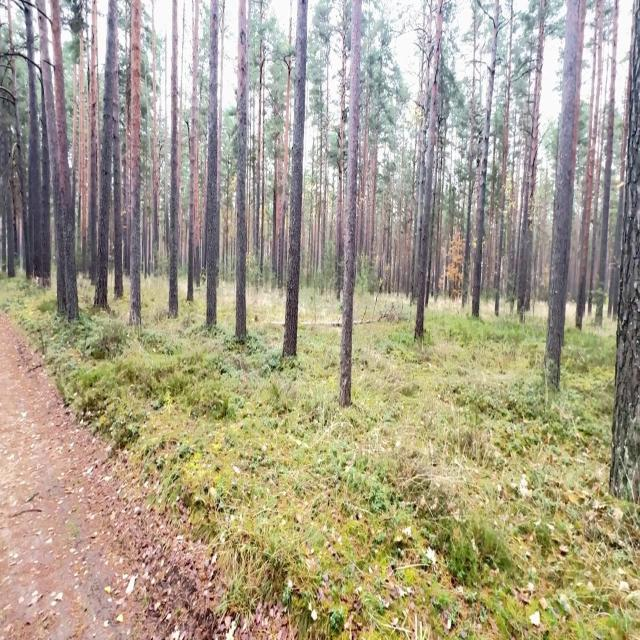trees: (610, 0, 639, 504), (545, 0, 579, 388), (36, 0, 66, 315), (415, 0, 442, 341), (339, 0, 361, 406), (518, 0, 545, 322), (51, 0, 78, 322), (283, 0, 307, 357), (472, 0, 499, 317), (576, 5, 602, 328), (595, 0, 618, 326), (94, 0, 117, 308), (495, 0, 512, 316), (367, 40, 387, 265), (235, 0, 248, 343), (206, 0, 219, 325), (462, 18, 476, 306), (413, 62, 430, 297), (129, 0, 141, 325), (588, 111, 605, 315), (277, 51, 291, 290), (336, 0, 347, 299), (188, 0, 198, 301), (28, 65, 42, 276), (169, 0, 178, 318), (10, 57, 25, 232), (432, 121, 445, 300), (113, 69, 123, 298), (0, 127, 15, 277), (89, 0, 97, 280), (78, 28, 87, 271), (255, 35, 264, 273), (152, 3, 159, 270), (271, 103, 281, 286), (41, 86, 50, 285), (217, 0, 225, 212), (322, 59, 328, 272), (71, 66, 77, 241), (261, 136, 266, 274)
